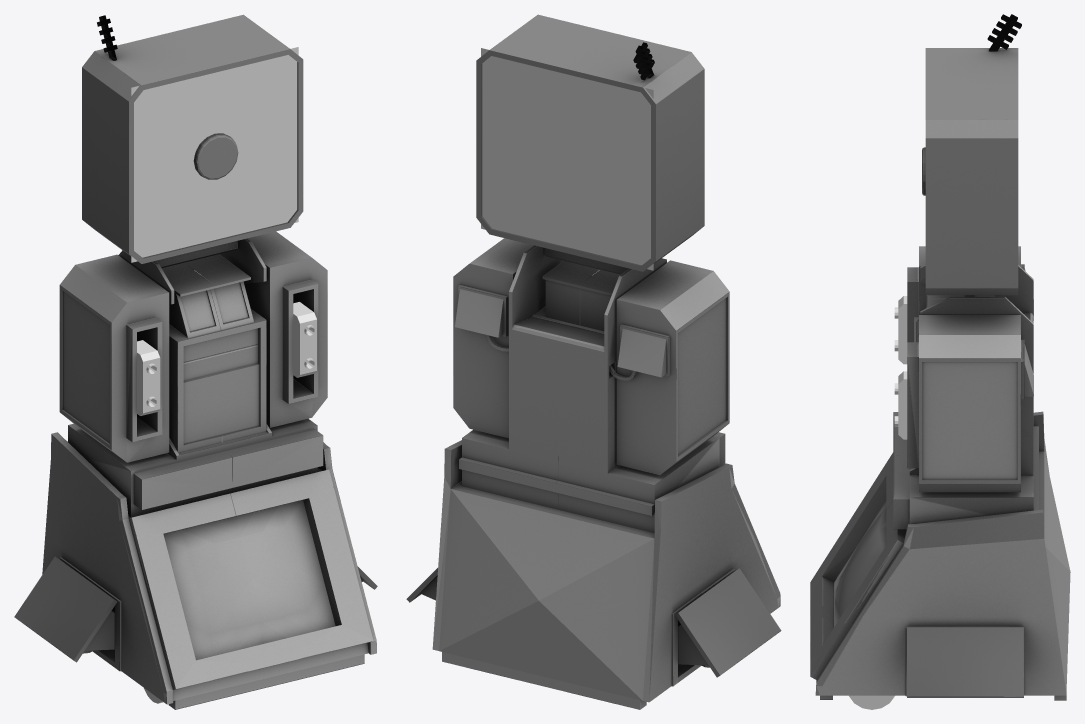
The model's file is fanbot.gltf.
The picture shows the model from 3 angles, left to right: view 1: azimuth 30°, elevation 25°; view 2: azimuth 150°, elevation 25°; view 3: azimuth 270°, elevation 25°; orthographic projection. The views are drawn at different scales.
Visible parts, largest first — view 1: FanMain, FanGrates, FanHead, FanRocketR, FanWeapon; view 2: FanMain, FanGrates, FanHead, FanRocketR; view 3: FanMain, FanHead, FanRocketL, FanWeapon, FanWheelL.
Boxes of the visible parts, x1,y1,x2,y2 form: FanMain: (42, 231, 376, 709); FanGrates: (131, 47, 298, 262); FanHead: (82, 14, 303, 267); FanRocketR: (14, 556, 117, 662); FanWeapon: (137, 302, 316, 415); FanMain: (432, 238, 780, 709); FanGrates: (481, 48, 653, 270); FanHead: (476, 14, 704, 274); FanRocketR: (675, 568, 781, 677); FanMain: (810, 246, 1070, 700); FanHead: (922, 14, 1021, 296); FanRocketL: (907, 627, 1023, 697); FanWeapon: (894, 296, 907, 439); FanWheelL: (849, 695, 894, 709).
Size of the model in its own units: 3.08 by 6.09 by 2.32.
Materials: 3 (3 with a texture image).
